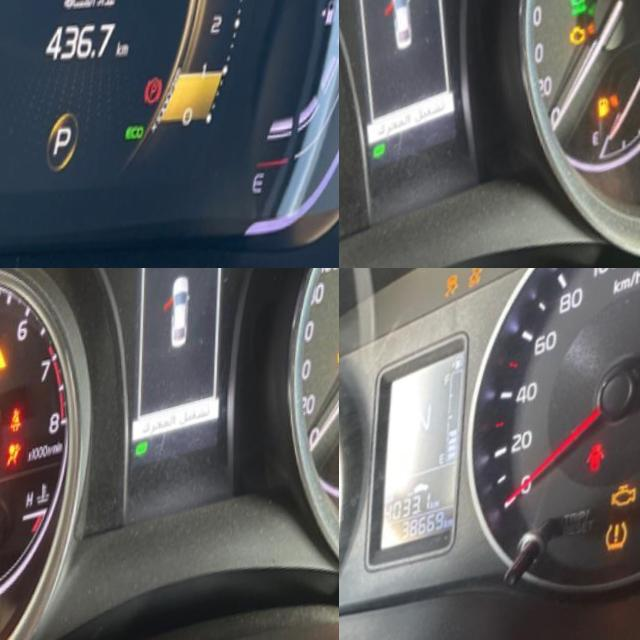Doors: (581, 460, 612, 501)
Seat Belt: (11, 414, 24, 446)
